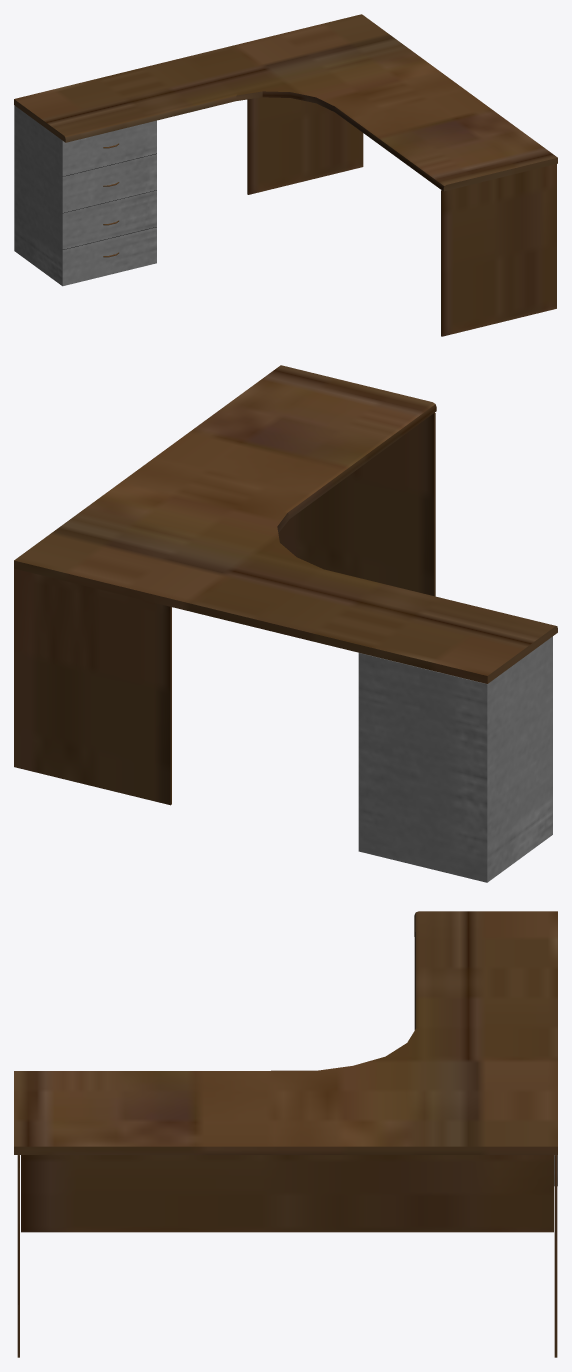
Rendered from deskWTextures.fbx.
3 renders of one model, top to bottom at view 1: azimuth 30°, elevation 25°; view 2: azimuth 150°, elevation 25°; view 3: azimuth 270°, elevation 25°, orthographic. The views are drawn at different scales.
Parts seen in each view (by area): view 1: polySurface11, polySurface10, polySurface14, polySurface13; view 2: polySurface11, polySurface10, polySurface13, polySurface14; view 3: polySurface11, polySurface12, polySurface13, polySurface14.
Boxes of the visible parts, <box> form: polySurface11: <box>14,14,557,191</box>; polySurface10: <box>14,105,156,286</box>; polySurface14: <box>441,164,556,336</box>; polySurface13: <box>247,97,363,194</box>; polySurface11: <box>14,365,557,683</box>; polySurface10: <box>358,636,552,882</box>; polySurface13: <box>14,568,171,805</box>; polySurface14: <box>278,413,435,596</box>; polySurface11: <box>14,911,557,1154</box>; polySurface12: <box>21,1155,553,1232</box>; polySurface13: <box>554,1155,557,1357</box>; polySurface14: <box>17,1155,19,1357</box>.
Size of the model in its own units: 74.95 by 31.27 by 73.11.
Materials: 3 (2 with a texture image).
